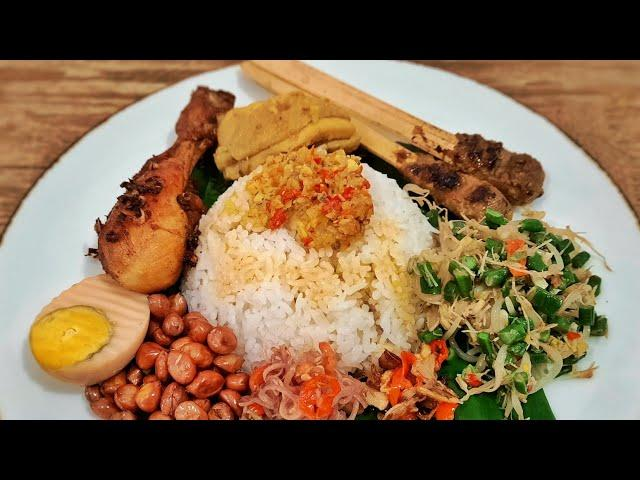buah_sayur_lainnya: (451, 227, 578, 380)
buah_sayur_vitA: (268, 365, 417, 422), (260, 157, 357, 225)
daging: (423, 149, 518, 211), (136, 177, 182, 264)
kacang_legume: (151, 328, 205, 414), (227, 113, 344, 142)
makanan_berpati: (239, 254, 396, 337)
telur: (53, 289, 125, 372)
